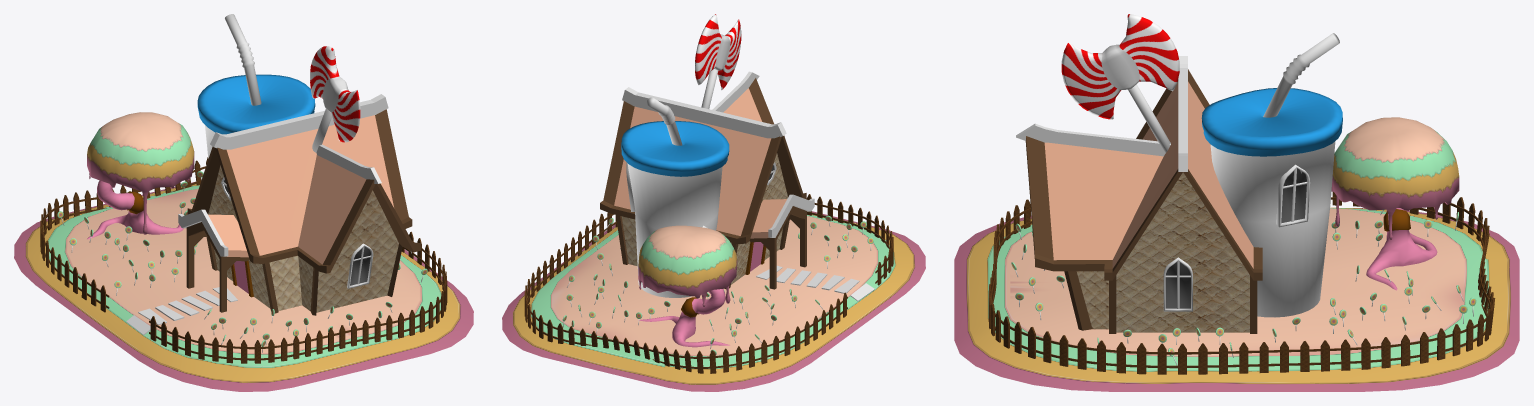
File: CandyHouse.fbx
3 renders of one model, left to right at view 1: azimuth 30°, elevation 25°; view 2: azimuth 150°, elevation 25°; view 3: azimuth 270°, elevation 25°, orthographic. The views are drawn at different scales.
Visible parts, largest first — view 1: Plane; view 2: Plane; view 3: Plane.
Part boxes in pixels (x1,y1,x2,y2): Plane: (14,14,473,391); Plane: (502,14,925,391); Plane: (954,14,1519,391).
Bounding box in the file's own units: 2623 × 2071 × 3407.
Materials: 18 (7 with a texture image).
